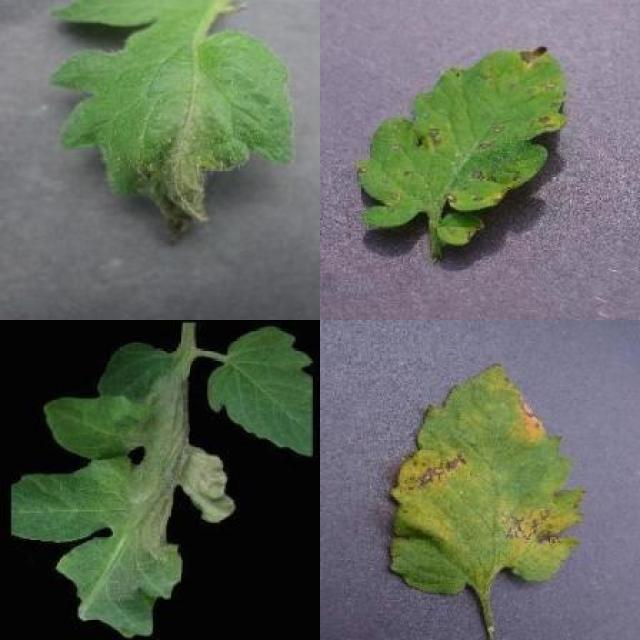Healthy: (205, 327, 312, 457)
Late Blight: (13, 343, 236, 640), (47, 0, 294, 247)
Septoria: (387, 360, 589, 593), (355, 45, 568, 228)
